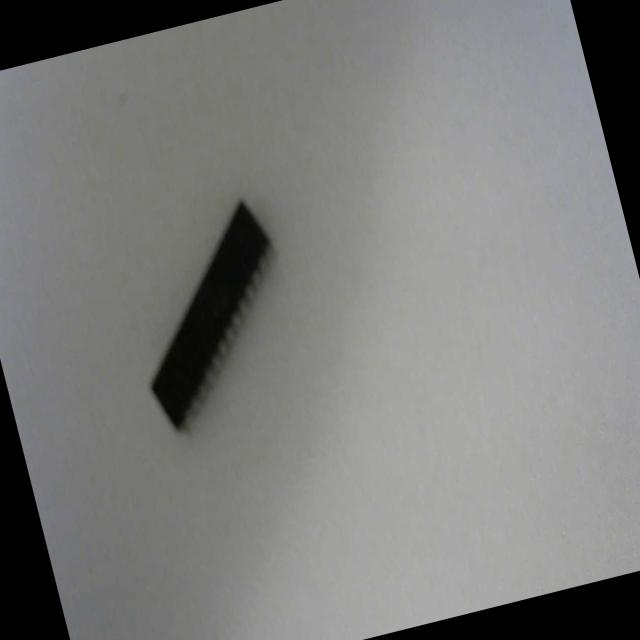atmega: (107, 189, 313, 441)
